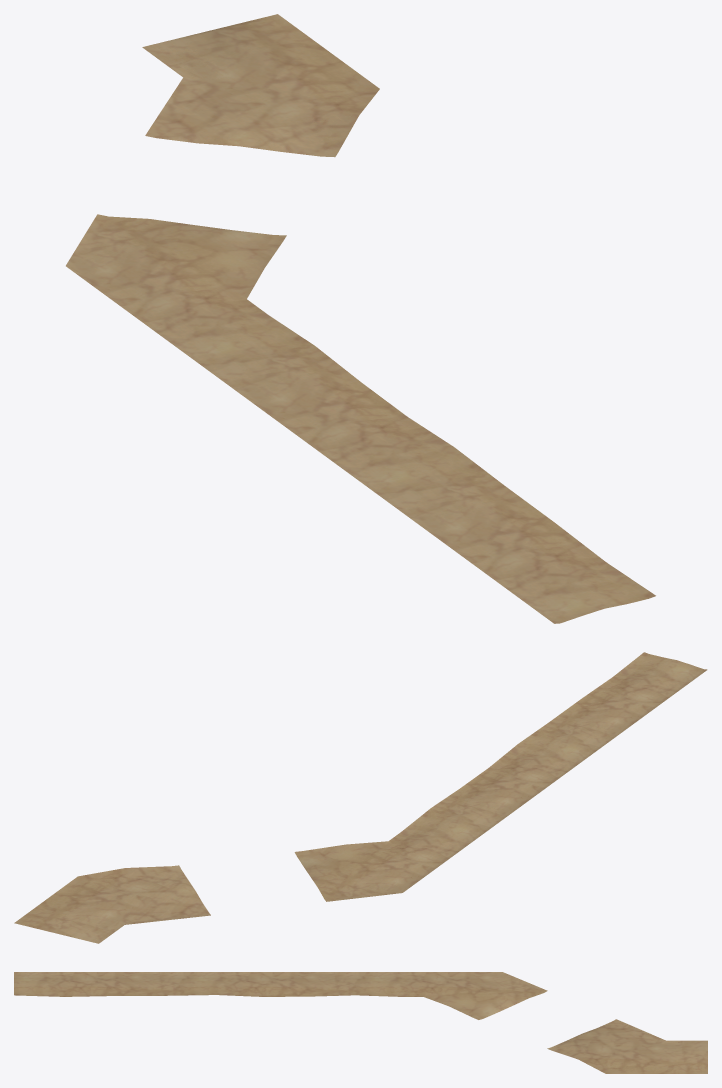
File: SM_ENV_LKNVLD_Ground_Right_Side_Grass_01.FBX
3 views of the same model, one above another, from view 1: azimuth 30°, elevation 25°; view 2: azimuth 150°, elevation 25°; view 3: azimuth 270°, elevation 25° (orthographic). The views are drawn at different scales.
Parts seen in each view (by area): view 1: SM_ENV_LKNVLD_Ground_Right_Side_Grass_01; view 2: SM_ENV_LKNVLD_Ground_Right_Side_Grass_01; view 3: SM_ENV_LKNVLD_Ground_Right_Side_Grass_01.
Boxes of the visible parts, x1,y1,x2,y2 form: SM_ENV_LKNVLD_Ground_Right_Side_Grass_01: [66, 14, 655, 623]; SM_ENV_LKNVLD_Ground_Right_Side_Grass_01: [14, 652, 707, 943]; SM_ENV_LKNVLD_Ground_Right_Side_Grass_01: [14, 972, 707, 1073].
Bounding box in the file's own units: 2118 × 32.87 × 6099.
